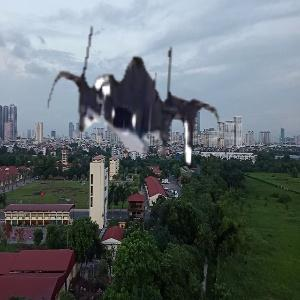drone: (41, 14, 232, 205)
